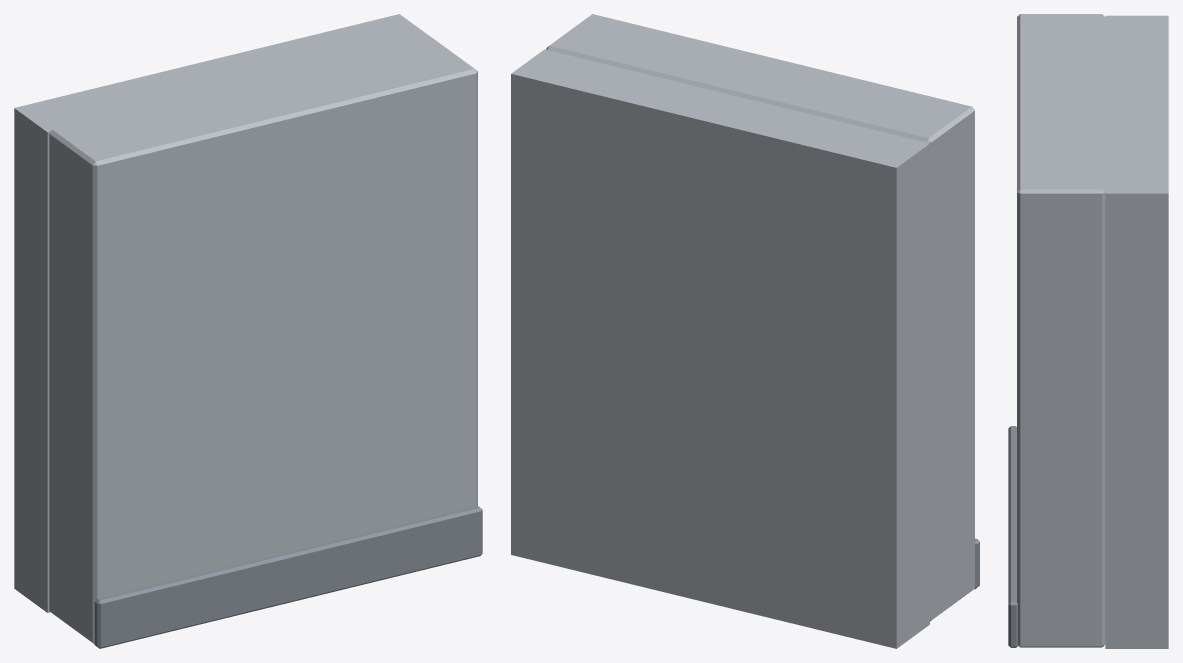
File: soco_h60_0_5m.glb
The picture shows the model from 3 angles, left to right: view 1: azimuth 30°, elevation 25°; view 2: azimuth 150°, elevation 25°; view 3: azimuth 270°, elevation 25°; orthographic projection. The views are drawn at different scales.
Parts seen in each view (by area): view 1: soco_h60_0_5m; view 2: soco_h60_0_5m; view 3: soco_h60_0_5m.
Part boxes in pixels (x1,y1,x2,y2): soco_h60_0_5m: (14, 14, 482, 648); soco_h60_0_5m: (511, 14, 979, 648); soco_h60_0_5m: (1008, 14, 1168, 648).
Size of the model in its own units: 0.5 by 0.6 by 0.19.
Materials: 1 (1 with a texture image).
